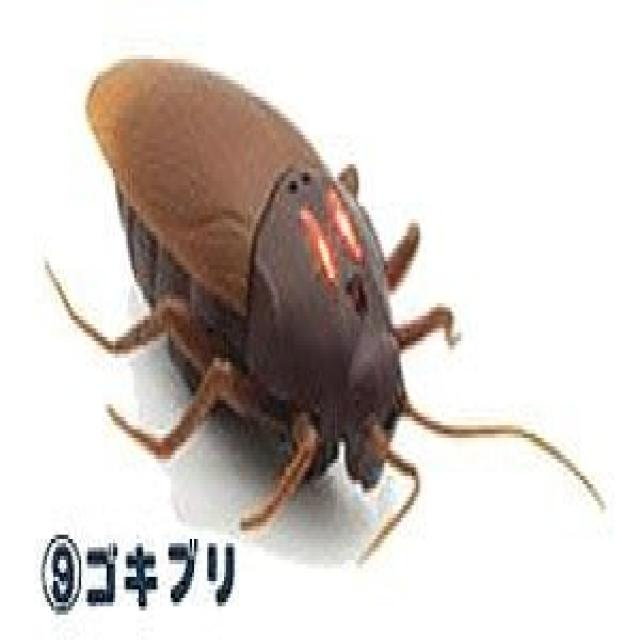Cockroach: (39, 42, 614, 529)
